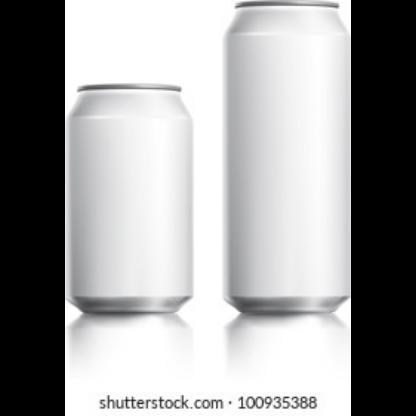Tin_Can: (218, 1, 352, 320), (65, 80, 199, 320)
